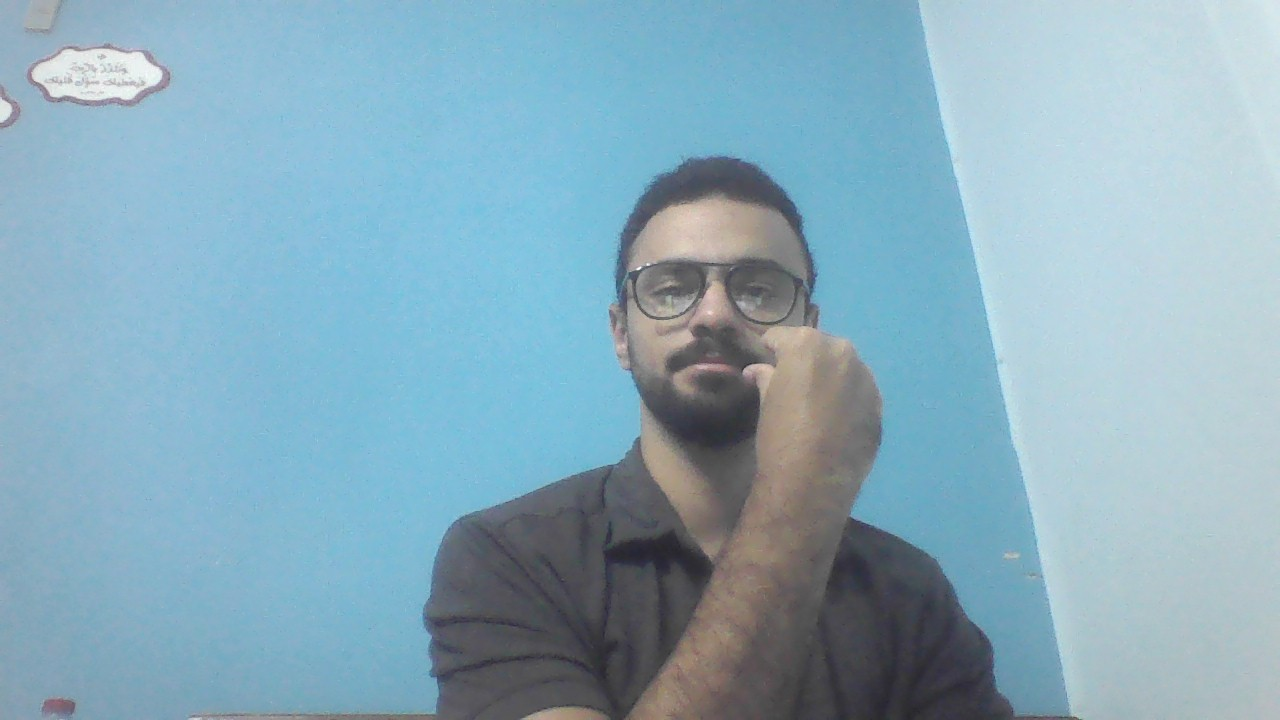eat: (736, 324, 894, 492)
